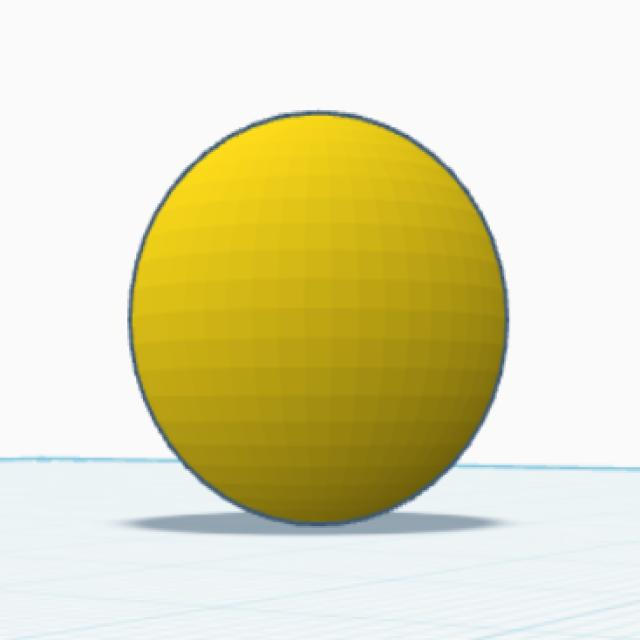sphere: (124, 106, 512, 526)
